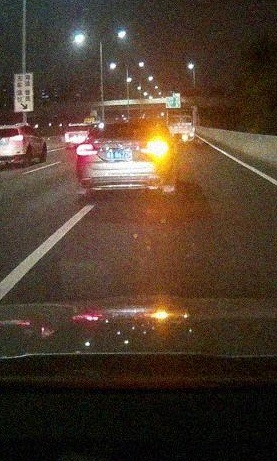L_light: (76, 144, 98, 155)
R_light: (141, 140, 168, 155)
T_light: (120, 123, 132, 126)
night-right: (76, 118, 171, 201)
